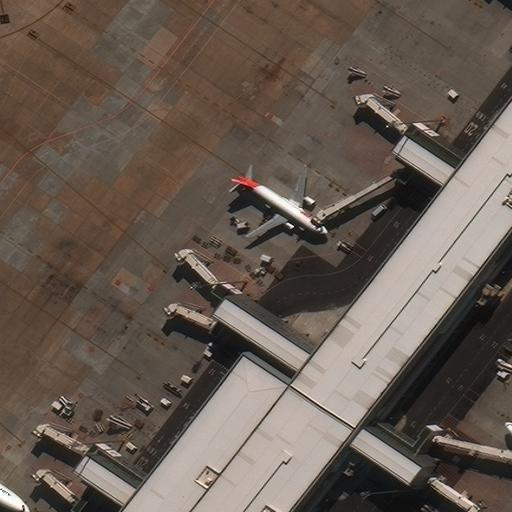Large Civil Transport: (0, 446, 31, 511)
Medium Civil Transport: (236, 166, 327, 238)
